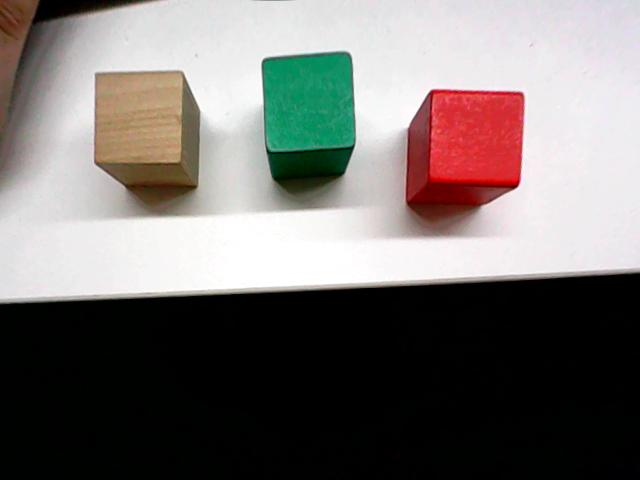green_box: (257, 47, 359, 183)
raw_box: (87, 67, 205, 196)
red_box: (402, 83, 528, 211)
